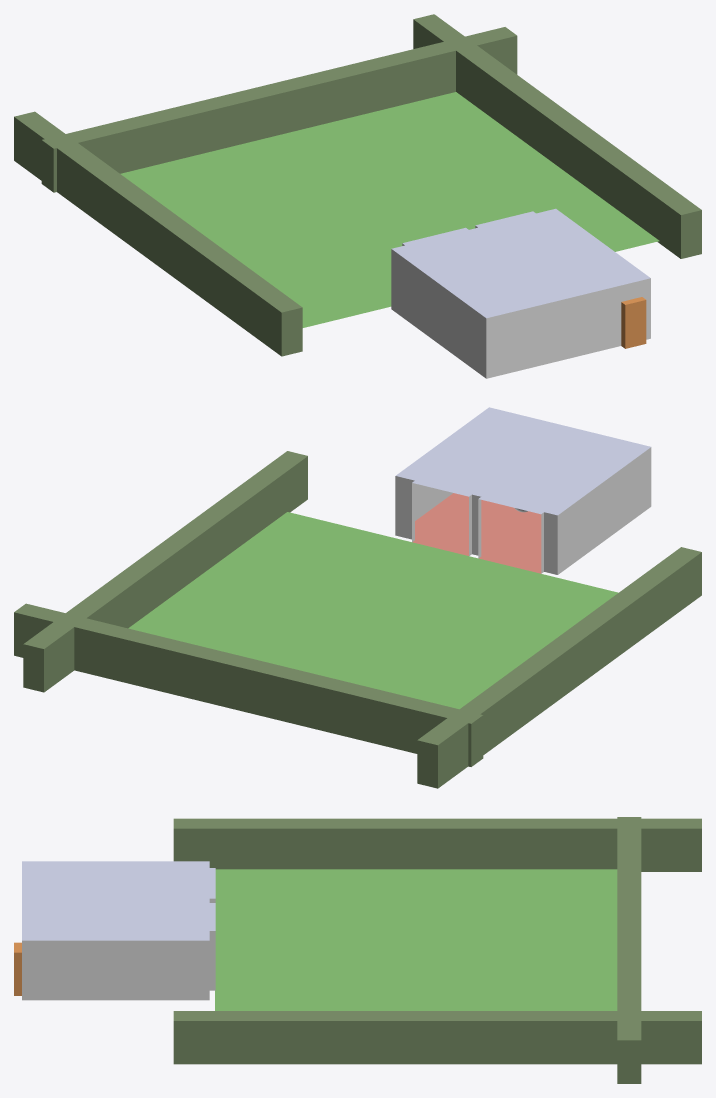
Rendered from room_0.fbx.
The picture shows the model from 3 angles, top to bottom: view 1: azimuth 30°, elevation 25°; view 2: azimuth 150°, elevation 25°; view 3: azimuth 270°, elevation 25°; orthographic projection.
Visible parts, largest first — view 1: grassPlane, room, wall, wall.001, wall.002, door; view 2: grassPlane, room, wall, wall.001, wall.002; view 3: grassPlane, wall.002, room, wall.001, wall, door.
Boxes of the visible parts, bbox=[...] form: grassPlane: bbox=[120, 92, 659, 327]; room: bbox=[391, 208, 650, 378]; wall: bbox=[41, 27, 517, 192]; wall.001: bbox=[14, 111, 302, 356]; wall.002: bbox=[413, 14, 701, 258]; door: bbox=[621, 297, 646, 348]; grassPlane: bbox=[128, 512, 618, 709]; room: bbox=[395, 407, 651, 574]; wall: bbox=[14, 603, 483, 766]; wall.001: bbox=[417, 547, 701, 788]; wall.002: bbox=[23, 451, 307, 692]; grassPlane: bbox=[215, 869, 617, 1010]; wall.002: bbox=[173, 1011, 701, 1064]; room: bbox=[22, 861, 215, 1000]; wall.001: bbox=[173, 818, 701, 871]; wall: bbox=[617, 817, 641, 1083]; door: bbox=[14, 942, 21, 995].
Bounding box in the file's own units: 4412 × 575 × 5745.
